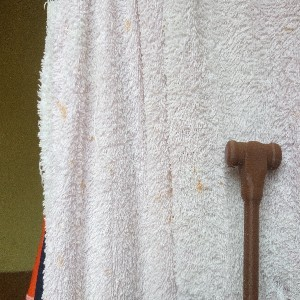palu: (225, 139, 283, 300)
